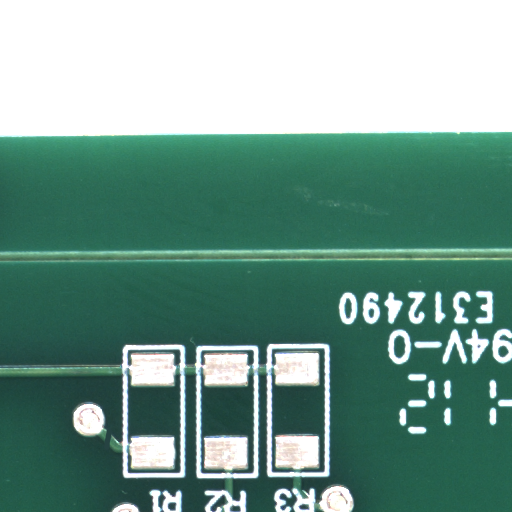Open_circuit: (107, 438, 118, 460)
